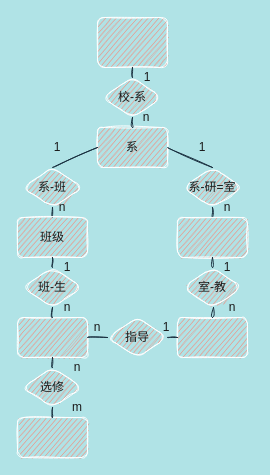
Some shapes in this 270 by 475 pixel diagram are drawn without their labels. Each missing label, with the centre of its shape:
"学校" goes at pixel 132 42.
"学生" goes at pixel 52 337.
"教员" goes at pixel 212 337.
"教研室" goes at pixel 212 237.
"课程" goes at pixel 52 437.
